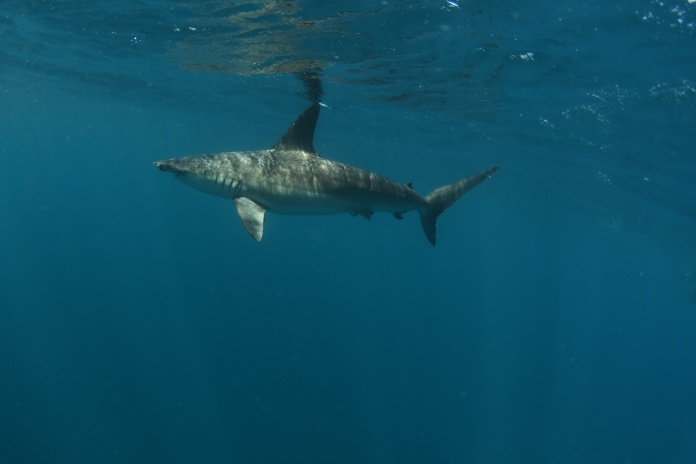Hammer: (146, 90, 497, 270)
